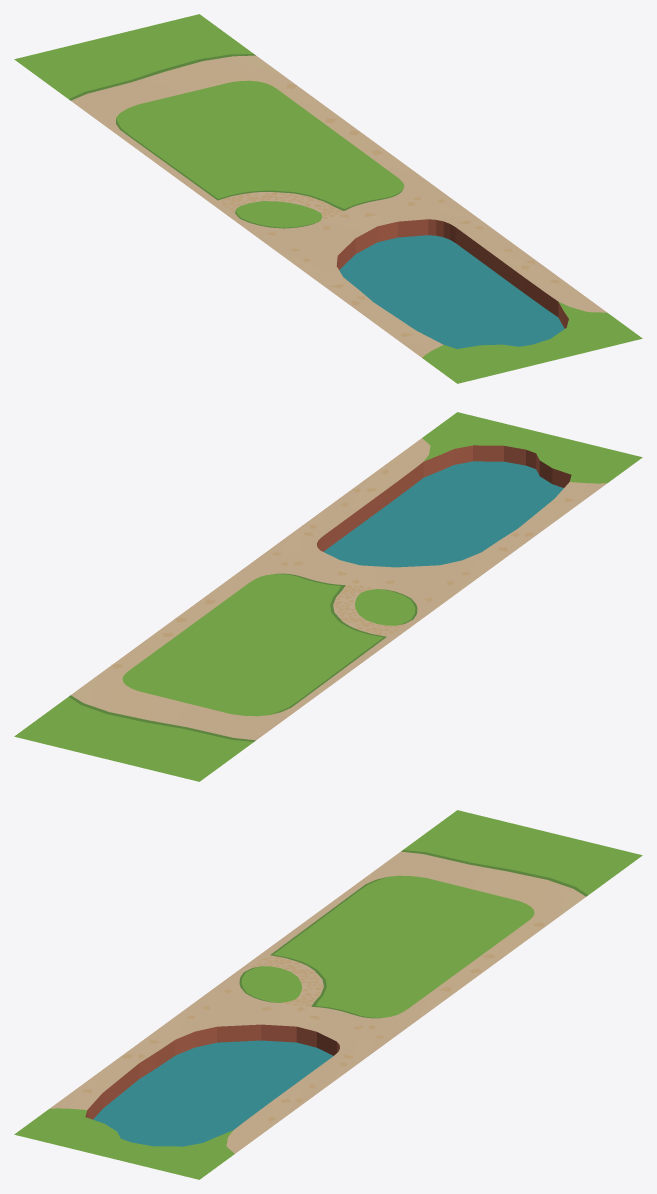
Rendered from kuozhan_07.FBX.
3 views of the same model, one above another, from view 1: azimuth 30°, elevation 25°; view 2: azimuth 150°, elevation 25°; view 3: azimuth 330°, elevation 25° (orthographic).
Parts seen in each view (by area): view 1: kuozhan_07; view 2: kuozhan_07; view 3: kuozhan_07.
Boxes of the visible parts, <box> form: kuozhan_07: <box>14,14,642,383</box>; kuozhan_07: <box>14,412,642,781</box>; kuozhan_07: <box>14,810,642,1179</box>.
Size of the model in its own units: 5304 by 447 by 21939.
